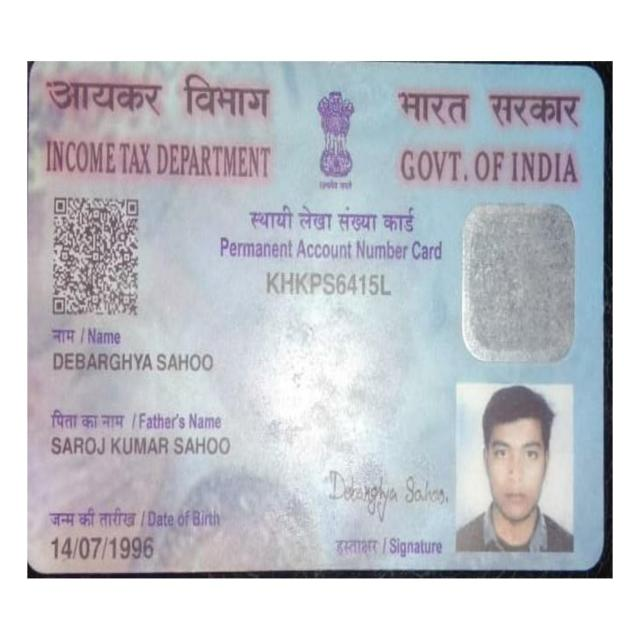pan_card: (29, 61, 595, 575)
